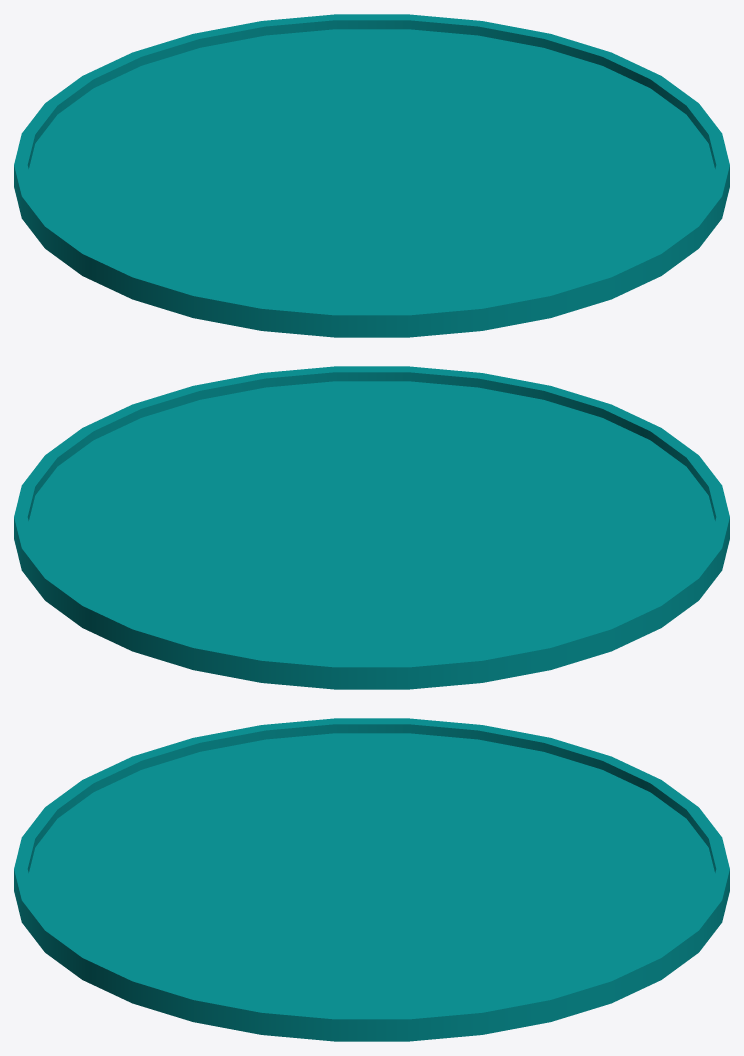
Rendered from SFI0510013.fbx.
The picture shows the model from 3 angles, top to bottom: view 1: azimuth 30°, elevation 25°; view 2: azimuth 150°, elevation 25°; view 3: azimuth 270°, elevation 25°; orthographic projection.
Visible parts, largest first — view 1: smSFI0510013; view 2: smSFI0510013; view 3: smSFI0510013.
Boxes of the visible parts, bbox=[...] form: smSFI0510013: bbox=[14, 14, 729, 337]; smSFI0510013: bbox=[14, 366, 729, 689]; smSFI0510013: bbox=[14, 718, 729, 1041].
Bounding box in the file's own units: 199 × 6.83 × 200.
